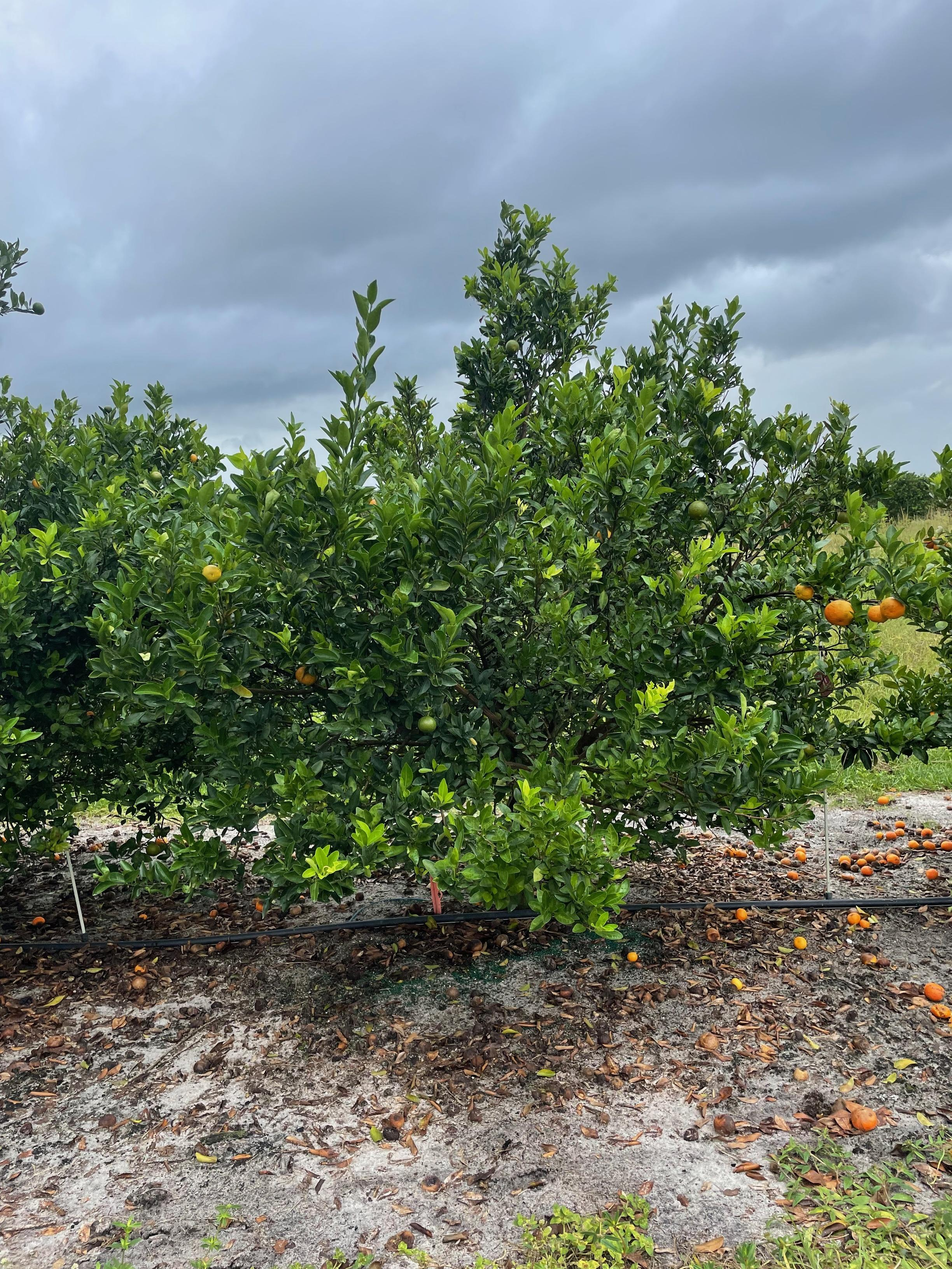fruit_on_ground: (823, 597, 856, 627), (879, 594, 907, 621), (295, 663, 319, 687), (686, 499, 710, 520), (867, 602, 888, 624), (793, 581, 815, 602), (416, 713, 438, 734), (201, 564, 223, 584), (29, 297, 48, 318), (145, 841, 161, 857), (922, 535, 939, 550), (31, 476, 46, 492), (504, 339, 520, 354), (149, 470, 163, 484), (802, 743, 816, 757), (187, 452, 199, 464)
fruit_on_tree: (851, 1106, 879, 1132), (922, 980, 947, 1002), (712, 1112, 736, 1133), (383, 1110, 406, 1131), (927, 1000, 951, 1020), (696, 1031, 719, 1051), (128, 974, 148, 992), (703, 925, 723, 941), (792, 933, 809, 951), (29, 913, 47, 928), (845, 908, 861, 924), (733, 906, 749, 922), (859, 951, 876, 966), (251, 896, 266, 912), (625, 947, 640, 963), (886, 849, 902, 864), (288, 902, 303, 917), (859, 863, 874, 877), (875, 793, 890, 806), (926, 867, 941, 880), (919, 826, 935, 838), (893, 816, 907, 829), (734, 848, 749, 860), (785, 869, 800, 881), (922, 837, 937, 849), (778, 856, 794, 867), (792, 844, 808, 855), (50, 851, 64, 863), (723, 846, 737, 858), (751, 850, 766, 861), (862, 851, 877, 862), (837, 854, 852, 865), (940, 839, 952, 852), (793, 851, 806, 863), (884, 830, 898, 841), (857, 918, 871, 929), (906, 837, 920, 848), (206, 907, 219, 918), (855, 857, 868, 867), (874, 830, 886, 840), (893, 828, 906, 837), (89, 843, 100, 852)
